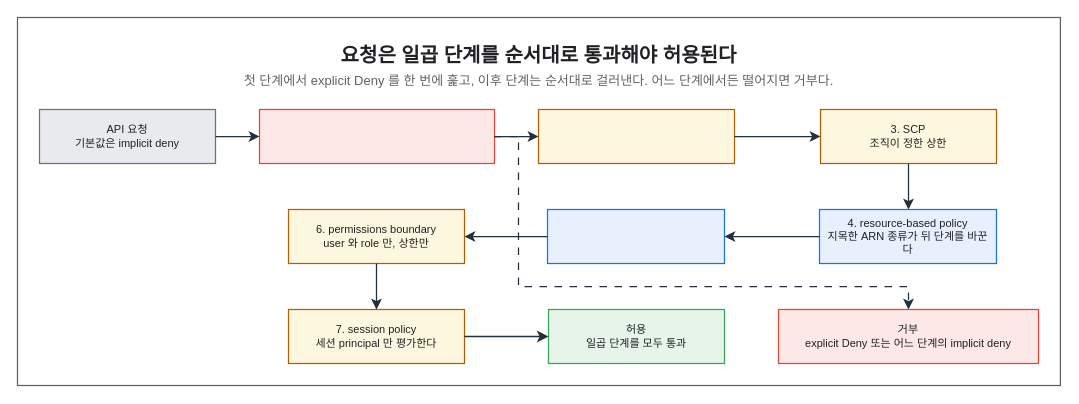
This 1079x404 diagram has some shape labels left out. Here are the shapes that lost their labels. From the top down, the centre of each, then its label:
(x=376, y=136): 1. Deny evaluation 여섯 정책 타입 전체에서 explicit Deny 를 찾는다
(x=636, y=136): 2. RCP RCPFullAWSAccess 가 항상 붙어 있다
(x=635, y=236): 5. identity-based policy 권한을 실제로 부여한다
